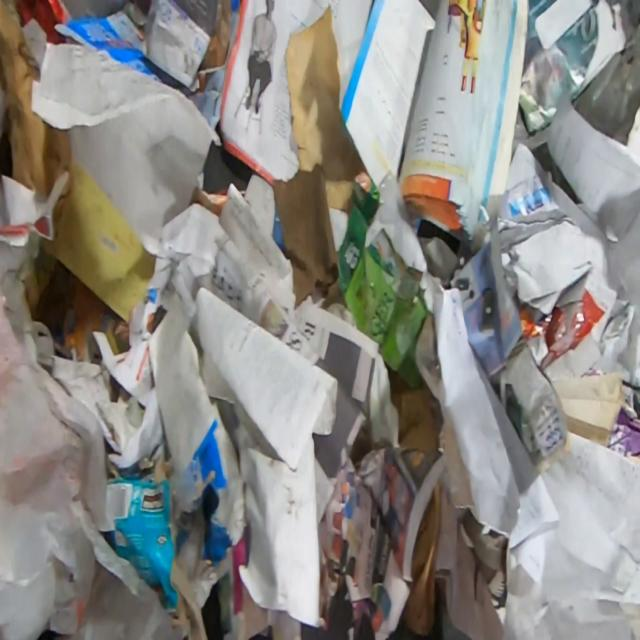cardboard: (334, 165, 428, 371), (106, 455, 209, 640), (284, 4, 364, 211), (50, 0, 164, 83), (399, 475, 443, 638), (140, 0, 216, 93), (385, 362, 444, 454)
soft_plastic: (0, 292, 188, 640), (524, 285, 608, 372), (198, 0, 231, 71)
